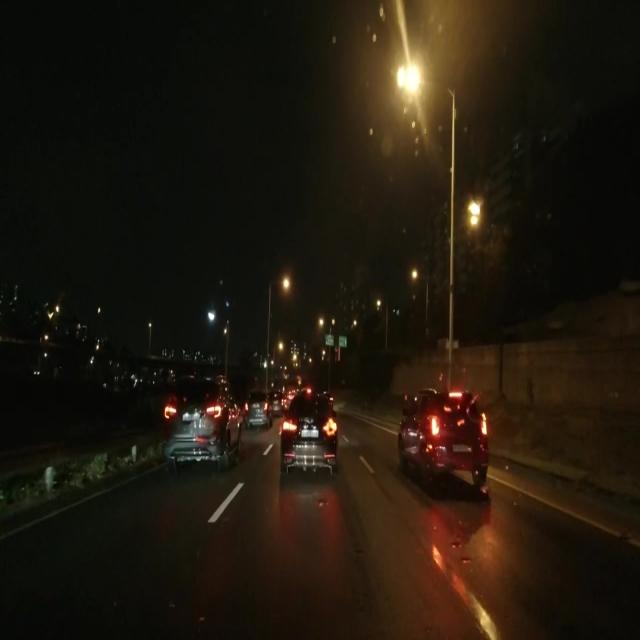Car: (396, 386, 487, 498), (159, 374, 239, 468), (278, 391, 335, 478)
